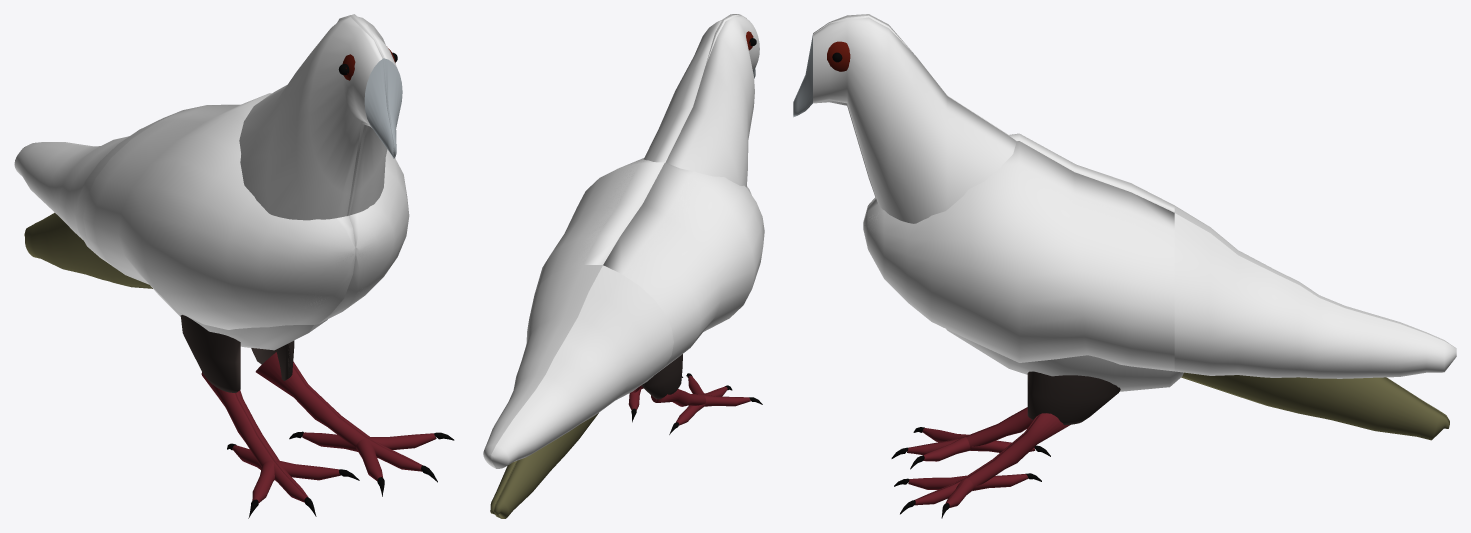
File: pigeon 1.fbx
The picture shows the model from 3 angles, left to right: view 1: azimuth 30°, elevation 25°; view 2: azimuth 150°, elevation 25°; view 3: azimuth 270°, elevation 25°; orthographic projection. The views are drawn at different scales.
Visible parts, largest first — view 1: Left wing, Body, Right wing; view 2: Left wing, Body, Right wing; view 3: Right wing, Body, Left wing.
Part boxes in pixels (x1,y1,x2,y2): Left wing: (14, 93, 355, 329); Body: (24, 14, 454, 518); Right wing: (58, 93, 409, 323); Left wing: (491, 162, 764, 468); Body: (490, 14, 762, 518); Right wing: (483, 158, 664, 468); Right wing: (863, 141, 1456, 378); Body: (793, 14, 1449, 518); Left wing: (864, 133, 1456, 348).
Bounding box in the file's own units: 188 × 337 × 445.
